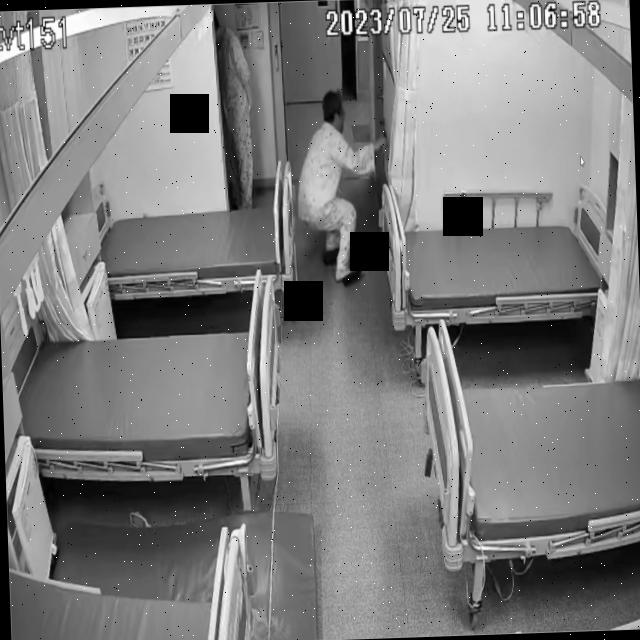bed: (420, 312, 640, 565), (14, 319, 282, 481), (378, 203, 616, 330), (101, 194, 293, 298)
fall: (294, 80, 387, 284)
patient: (293, 76, 389, 284), (216, 2, 256, 208)
stand: (214, 2, 256, 208)
